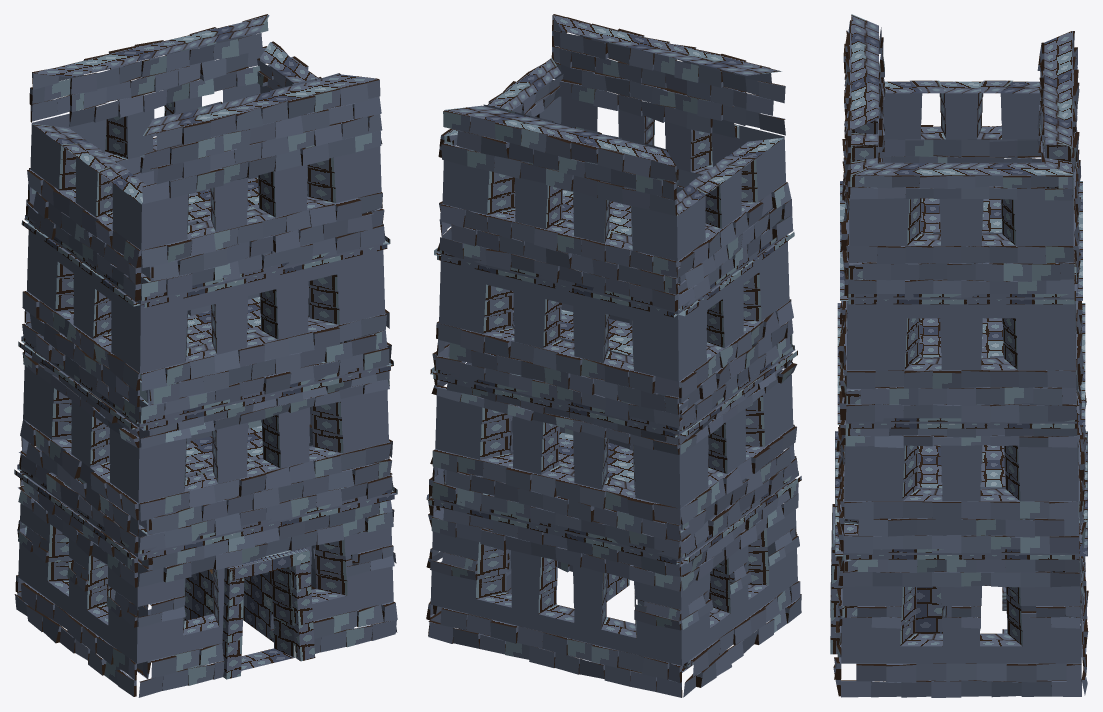
File: RUI-05_Torreon.gltf
The picture shows the model from 3 angles, left to right: view 1: azimuth 30°, elevation 25°; view 2: azimuth 150°, elevation 25°; view 3: azimuth 270°, elevation 25°; orthographic projection. The views are drawn at different scales.
Parts seen in each view (by area): view 1: RUI-05_Torreon-col; view 2: RUI-05_Torreon-col; view 3: RUI-05_Torreon-col.
Boxes of the visible parts, x1,y1,x2,y2 form: RUI-05_Torreon-col: [14, 14, 397, 697]; RUI-05_Torreon-col: [426, 14, 801, 697]; RUI-05_Torreon-col: [830, 14, 1088, 697].
Size of the model in its own units: 8.39 by 16.41 by 6.85.
Materials: 2 (2 with a texture image).
